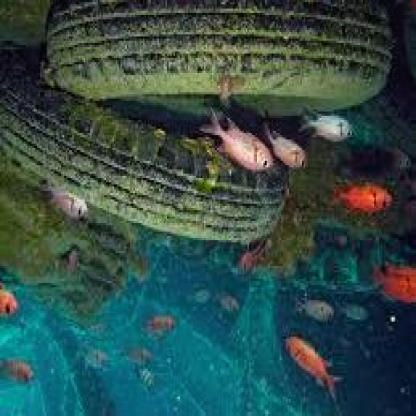tire: (14, 77, 286, 260), (46, 2, 394, 107)
